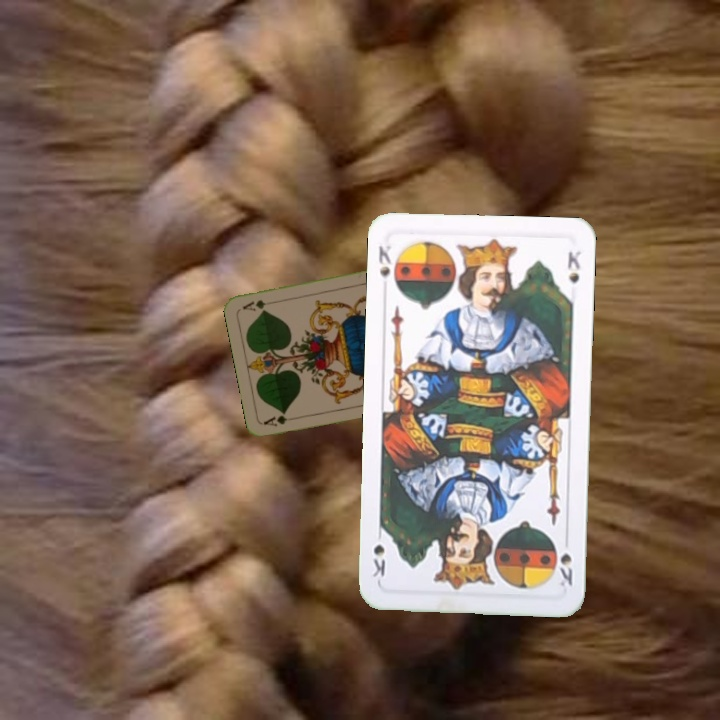GA: (260, 411, 301, 429)
SK: (555, 549, 575, 589), (374, 241, 394, 280)
